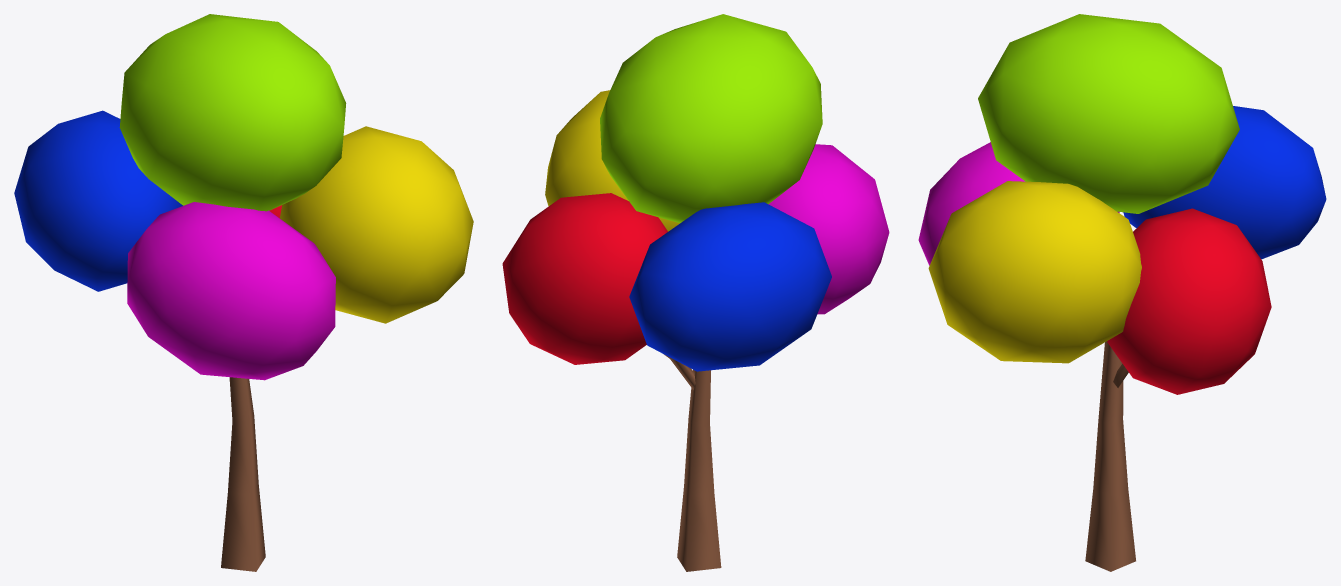
File: lowpolytree.fbx
3 views of the same model, side by side, from view 1: azimuth 30°, elevation 25°; view 2: azimuth 150°, elevation 25°; view 3: azimuth 270°, elevation 25° (orthographic).
Visible parts, largest first — view 1: Icosphere.002, Icosphere.004, Icosphere.003, Icosphere, tree; view 2: Icosphere.002, Icosphere, Icosphere.001, Icosphere.004, tree, Icosphere.003; view 3: Icosphere.002, Icosphere.003, Icosphere.001, Icosphere, tree, Icosphere.004.
Part boxes in pixels (x1=…): Icosphere.002: x1=119, y1=14, x2=346, y2=211; Icosphere.004: x1=127, y1=202, x2=335, y2=380; Icosphere.003: x1=279, y1=126, x2=473, y2=323; Icosphere: x1=14, y1=110, x2=182, y2=291; tree: x1=221, y1=377, x2=265, y2=571; Icosphere.002: x1=600, y1=14, x2=822, y2=223; Icosphere: x1=629, y1=202, x2=831, y2=371; Icosphere.001: x1=502, y1=193, x2=667, y2=364; Icosphere.004: x1=768, y1=144, x2=889, y2=314; tree: x1=664, y1=354, x2=721, y2=571; Icosphere.003: x1=545, y1=90, x2=679, y2=231; Icosphere.002: x1=978, y1=14, x2=1239, y2=213; Icosphere.003: x1=928, y1=181, x2=1141, y2=363; Icosphere.001: x1=1107, y1=208, x2=1271, y2=394; Icosphere: x1=1123, y1=106, x2=1326, y2=259; tree: x1=1085, y1=341, x2=1135, y2=571; Icosphere.004: x1=918, y1=142, x2=1119, y2=265.
Size of the model in its own units: 430 by 652 by 455.
